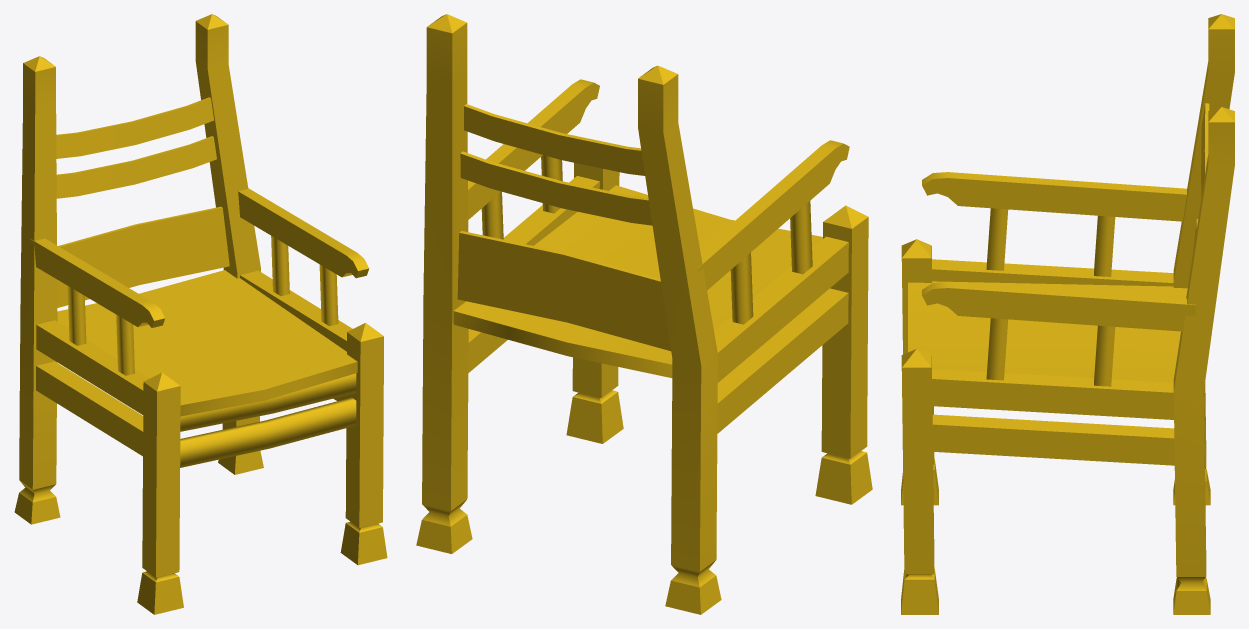
File: CHAIR 2.glb
3 views of the same model, side by side, from view 1: azimuth 30°, elevation 25°; view 2: azimuth 150°, elevation 25°; view 3: azimuth 270°, elevation 25° (orthographic). The views are drawn at different scales.
Parts seen in each view (by area): view 1: Prop_Chair_A; view 2: Prop_Chair_A; view 3: Prop_Chair_A.
Boxes of the visible parts, box(x1,y1,x2,y2) form: Prop_Chair_A: box(14, 14, 387, 614); Prop_Chair_A: box(416, 14, 872, 614); Prop_Chair_A: box(901, 14, 1234, 614).
Size of the model in its own units: 0.7259 by 1.32 by 0.8151.
